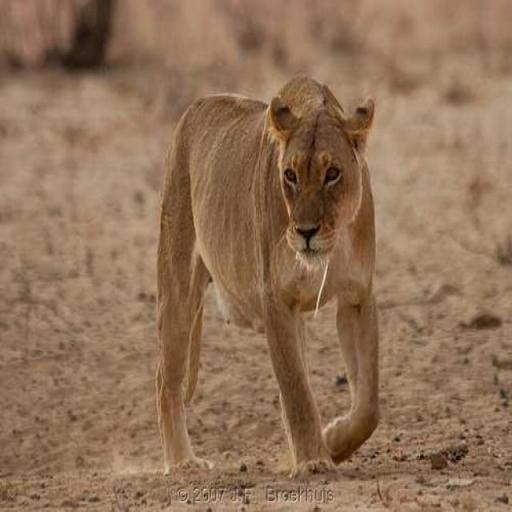Lion: (154, 72, 380, 479)
